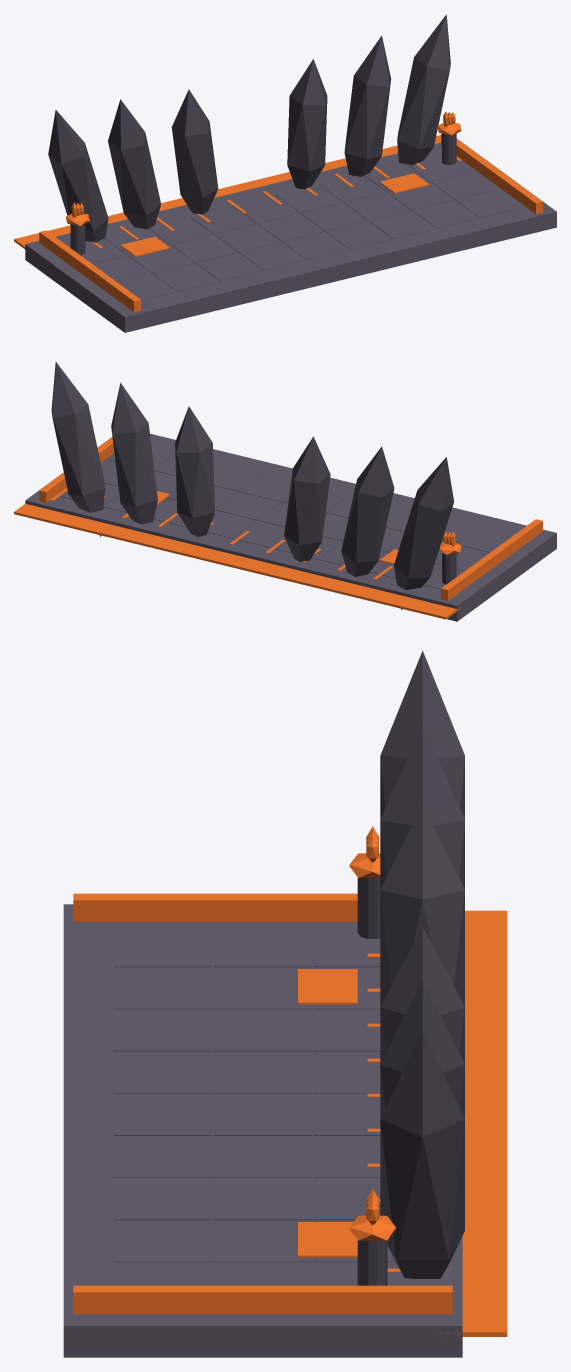
The model's file is arena_tartarus_pits.glb.
3 renders of one model, top to bottom at view 1: azimuth 30°, elevation 25°; view 2: azimuth 150°, elevation 25°; view 3: azimuth 270°, elevation 25°, orthographic. The views are drawn at different scales.
Visible parts, largest first — view 1: FLOOR, BASALT.005, BASALT.004, BASALT.001, BASALT.003, BASALT, BASALT.002, BOUNDARY, LAVA_RIVER, BOUNDARY.001, TILE.009, TILE.015 (+29 smaller); view 2: FLOOR, LAVA_RIVER, BASALT.005, BASALT, BASALT.004, BASALT.001, BASALT.003, BASALT.002, BOUNDARY, TILE.016, TILE.015, TILE.018 (+18 smaller); view 3: FLOOR, LAVA_RIVER, BASALT.005, BOUNDARY.001, BASALT.002, BOUNDARY, BASALT.001, BASALT, BASALT.003, BASALT.004, TILE.006, TILE (+29 smaller).
Boxes of the visible parts, x1,y1,x2,y2 form: FLOOR: (25, 139, 556, 332); BASALT.005: (397, 14, 450, 165); BASALT.004: (344, 35, 391, 176); BASALT.001: (108, 99, 161, 229); BASALT.003: (287, 59, 327, 189); BASALT: (48, 110, 108, 242); BASALT.002: (171, 89, 218, 214); BOUNDARY: (39, 230, 140, 312); LAVA_RIVER: (14, 135, 440, 253); BOUNDARY.001: (441, 134, 542, 213); TILE.009: (239, 242, 306, 270); TILE.015: (326, 221, 392, 249); FLOOR: (25, 433, 556, 621); LAVA_RIVER: (14, 503, 462, 619); BASALT.005: (51, 361, 105, 536); BASALT: (394, 457, 454, 609); BASALT.004: (111, 382, 157, 524); BASALT.001: (341, 446, 394, 576); BASALT.003: (175, 406, 214, 536); BASALT.002: (284, 436, 330, 562); BOUNDARY: (441, 519, 542, 600); TILE.016: (215, 491, 281, 520); TILE.015: (239, 473, 291, 501); TILE.018: (213, 463, 262, 491); FLOOR: (63, 904, 462, 1357); LAVA_RIVER: (437, 910, 507, 1336); BASALT.005: (380, 1032, 464, 1278); BOUNDARY.001: (73, 1285, 452, 1314); BASALT.002: (380, 805, 464, 1006); BOUNDARY: (73, 893, 357, 921); BASALT.001: (380, 724, 464, 889); BASALT: (380, 650, 464, 819); BASALT.003: (380, 926, 464, 1063); BASALT.004: (380, 980, 464, 1118); TILE.006: (114, 1009, 212, 1051); TILE: (114, 925, 212, 967).
Size of the model in its own units: 10 by 3.65 by 4.45.
